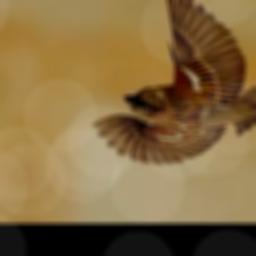Sparrow: (91, 0, 256, 165)
